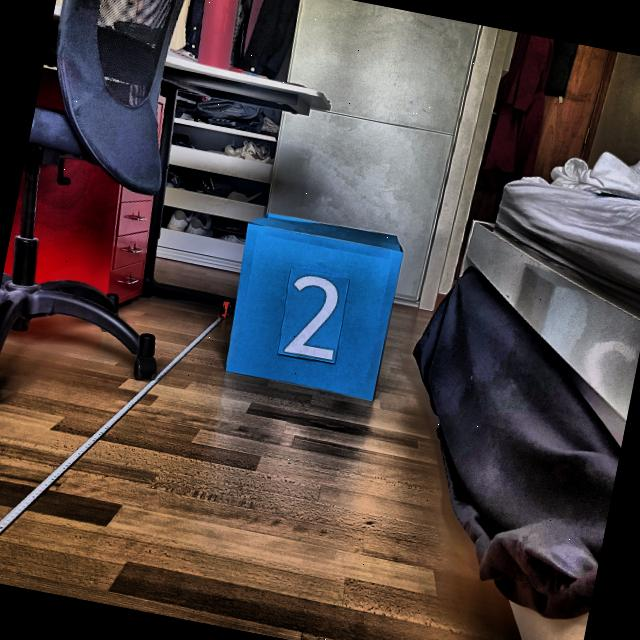blue box: (216, 204, 412, 404)
two: (280, 270, 350, 364)
